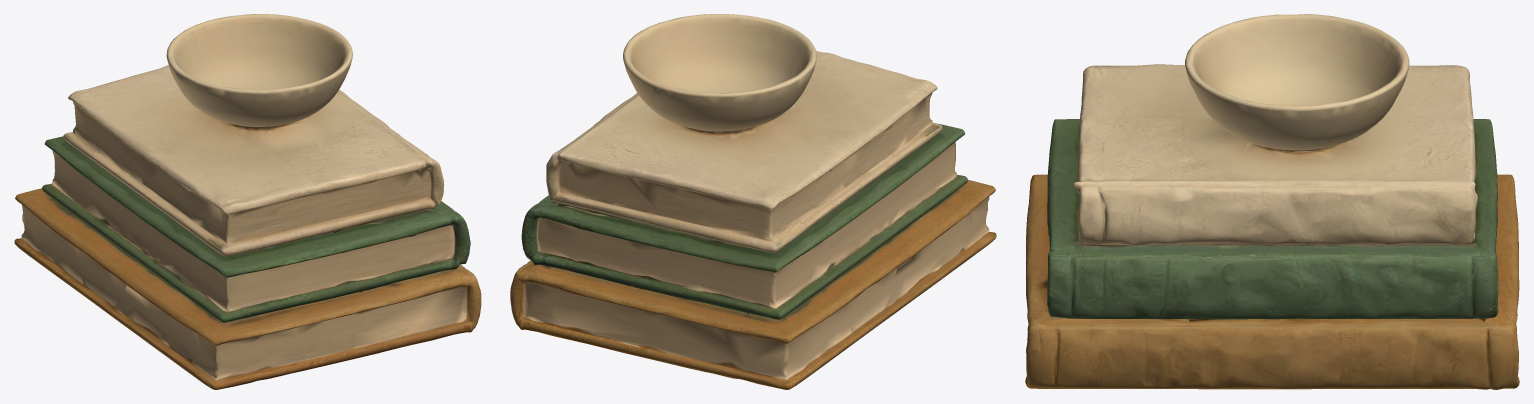
The model's file is books.glb.
3 renders of one model, left to right at view 1: azimuth 30°, elevation 25°; view 2: azimuth 150°, elevation 25°; view 3: azimuth 270°, elevation 25°, orthographic. The views are drawn at different scales.
Visible parts, largest first — view 1: tripo_node_41a7d824-6216-44c7-b6c2-fddff2619dc5; view 2: tripo_node_41a7d824-6216-44c7-b6c2-fddff2619dc5; view 3: tripo_node_41a7d824-6216-44c7-b6c2-fddff2619dc5.
Boxes of the visible parts, x1,y1,x2,y2 form: tripo_node_41a7d824-6216-44c7-b6c2-fddff2619dc5: (14, 14, 481, 389); tripo_node_41a7d824-6216-44c7-b6c2-fddff2619dc5: (510, 14, 996, 389); tripo_node_41a7d824-6216-44c7-b6c2-fddff2619dc5: (1025, 14, 1519, 389).
Size of the model in its own units: 0.7539 by 0.5909 by 0.9797.
Materials: 1 (1 with a texture image).
